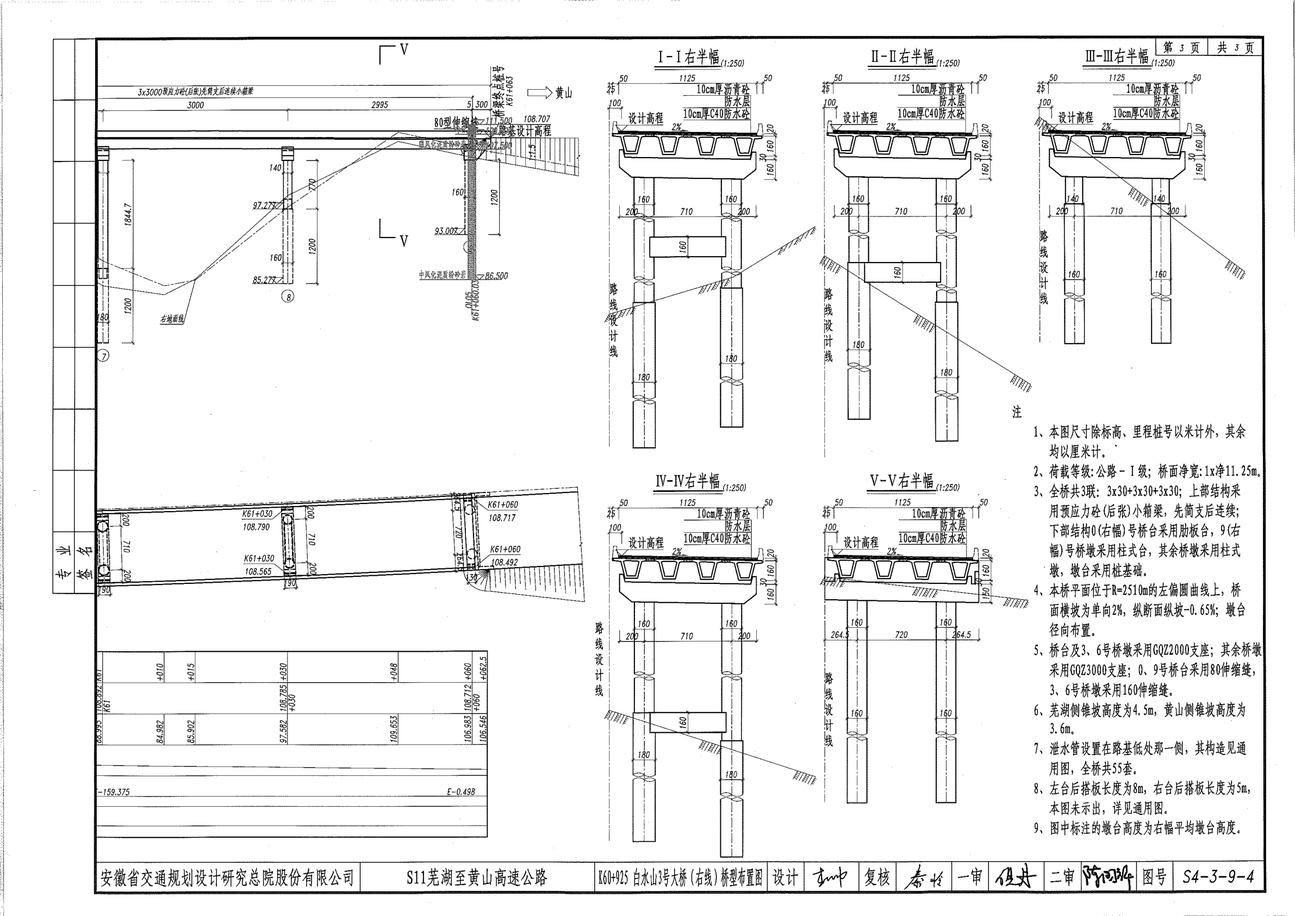A: (63, 41, 565, 385)
